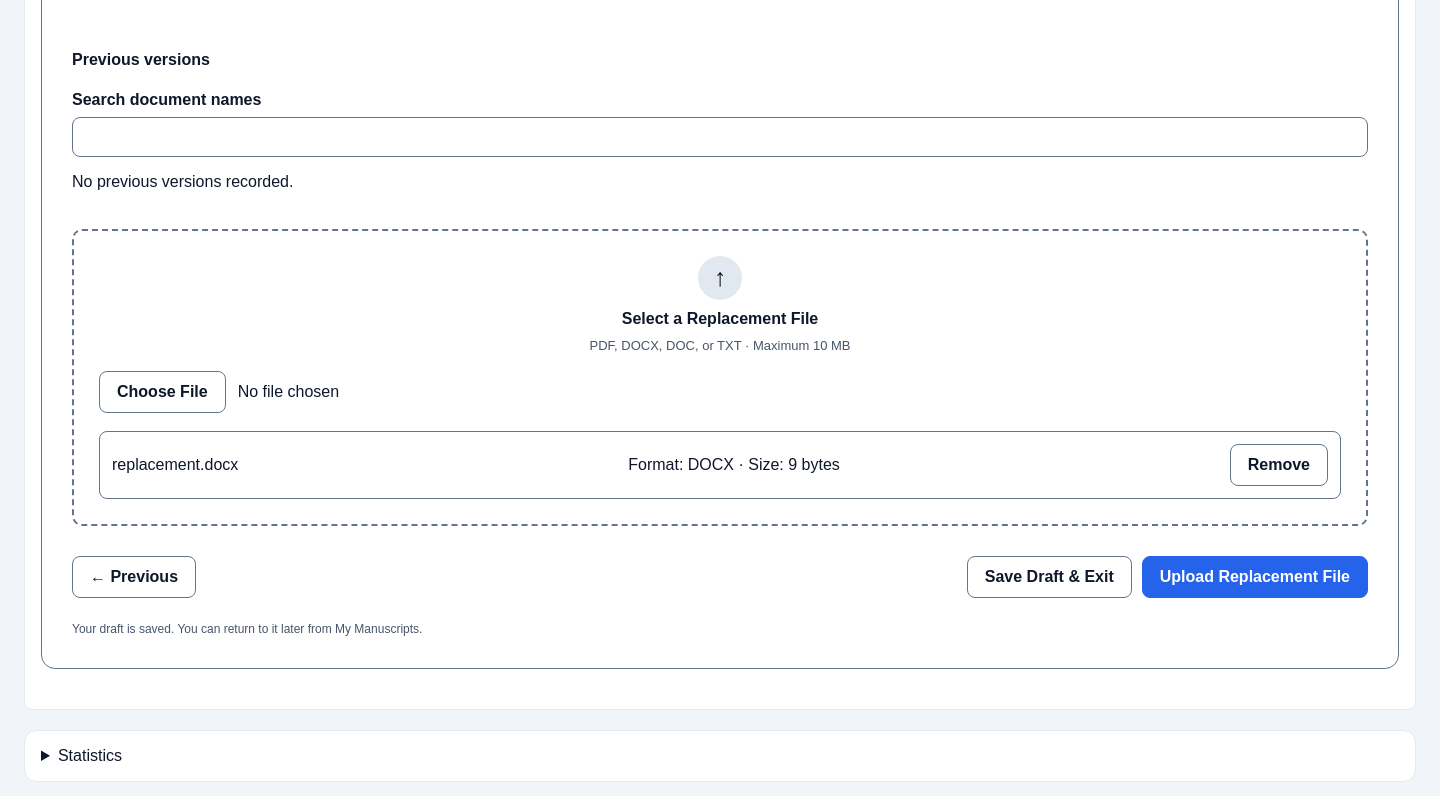
Test: blocks replacement while a TXT edit remains unsaved
This screenshot has width=1440, height=796.
Earlier steps of the test are not shown.
(page scrolled)
Click the button "Upload Replacement File": (1255, 577) left=1142, top=556, right=1368, bottom=598
(page scrolled)
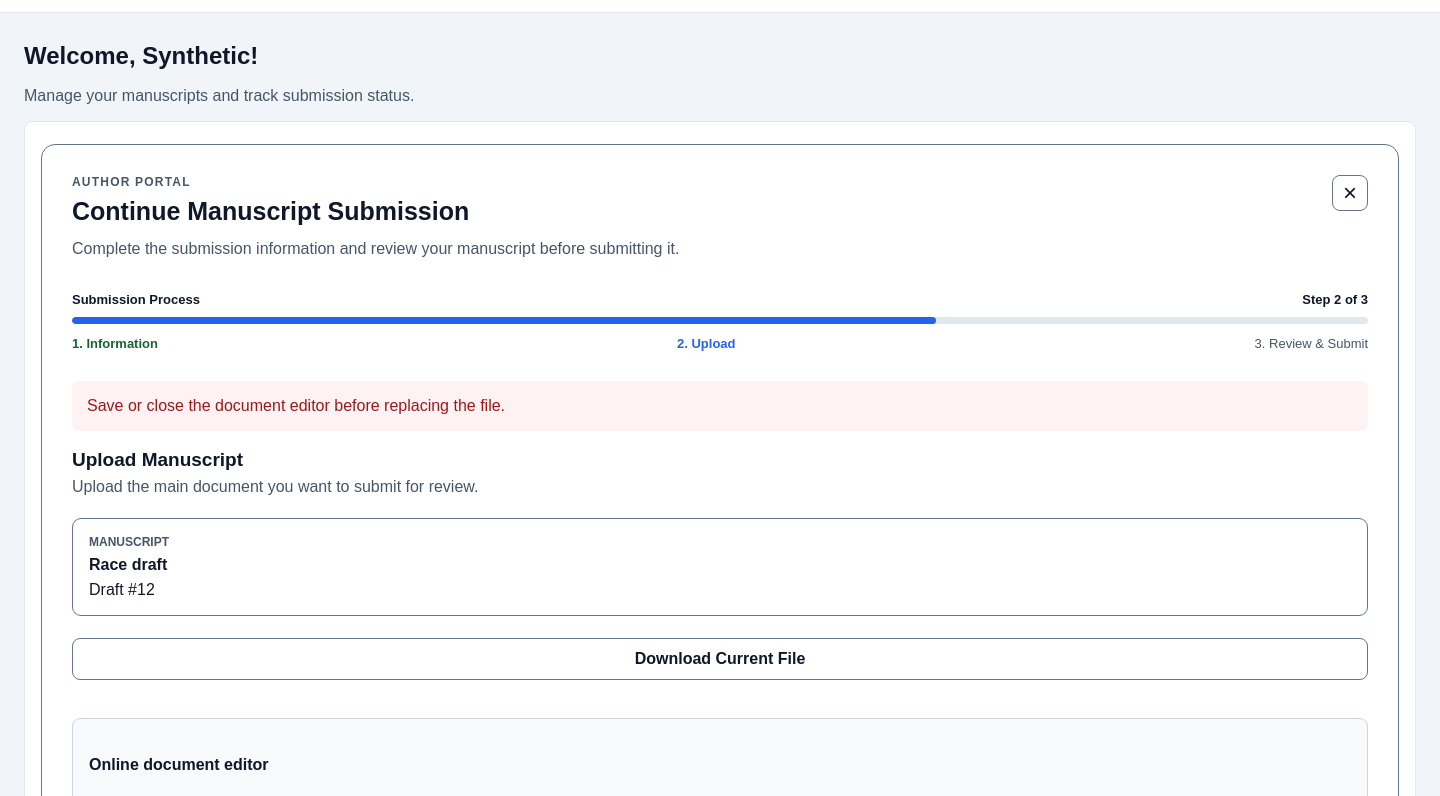
Check: the text "Save or close the document editor before replacing the file." is shown, box left=72, top=381, right=1368, bottom=431
